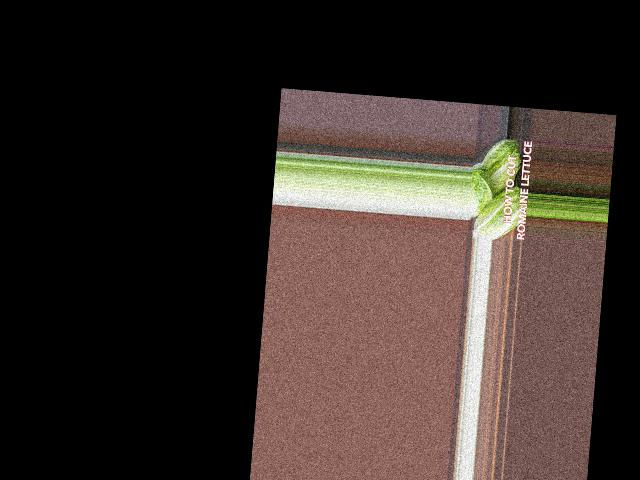lettuce: (475, 134, 527, 202)
